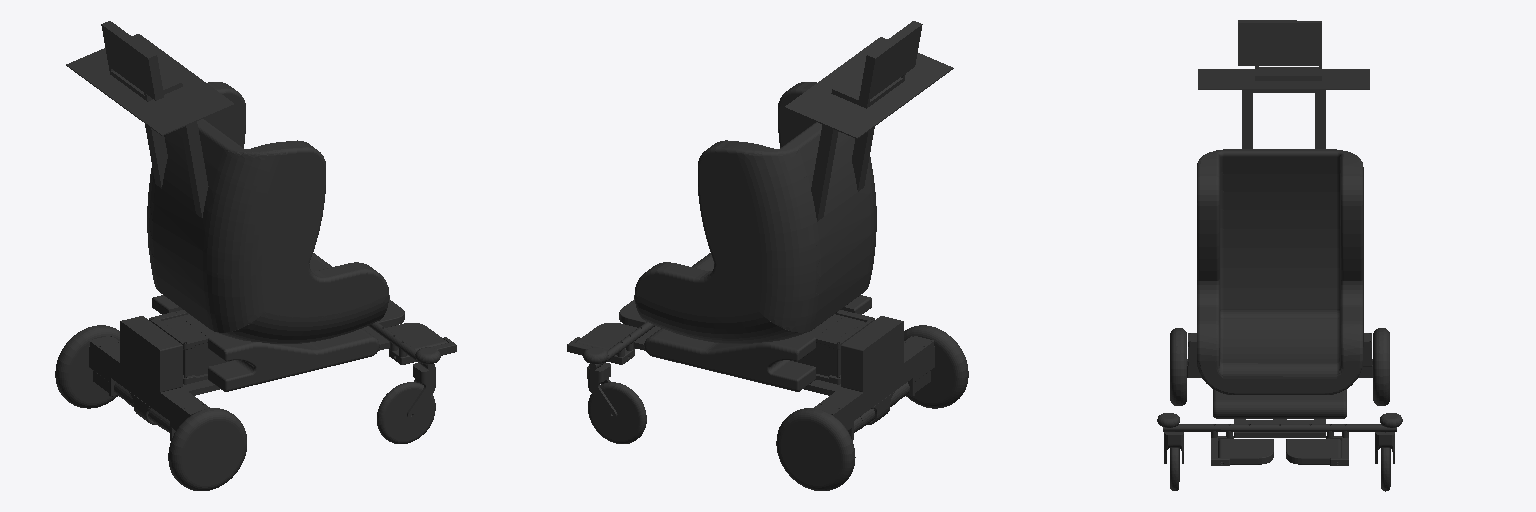
URDF robot description (kate):
<robot name="kate">
  <link name="base_link">
    <visual>
      <origin rpy="0 0 1.57" xyz="-0.03 -0.24 0.07"/>
      <geometry>
        <mesh filename="package://kate_global/meshes/kate.dae"/>
      </geometry>
    </visual>
  </link>
</robot>

--- What the picture shows (computed from the rendered views, not written in the file) ---
The picture shows the robot from 3 angles, left to right: view 1: azimuth 30°, elevation 25°; view 2: azimuth 150°, elevation 25°; view 3: azimuth 270°, elevation 25°; orthographic projection.
Model kate with 1 links and 0 joints (none), rooted at base_link, posed all joints at 0.
Visible links, largest first — view 1: base_link; view 2: base_link; view 3: base_link.
Link boxes in pixels (bbox=[...]): base_link: bbox=[55, 21, 456, 490]; base_link: bbox=[567, 21, 968, 490]; base_link: bbox=[1157, 20, 1402, 491].
Bounding box of the posed robot: 0.8239 × 0.64 × 1.07 m (x, y, z).
Meshes: 1 distinct files referenced, 1 mesh visuals loaded (1 Collada DAE).
